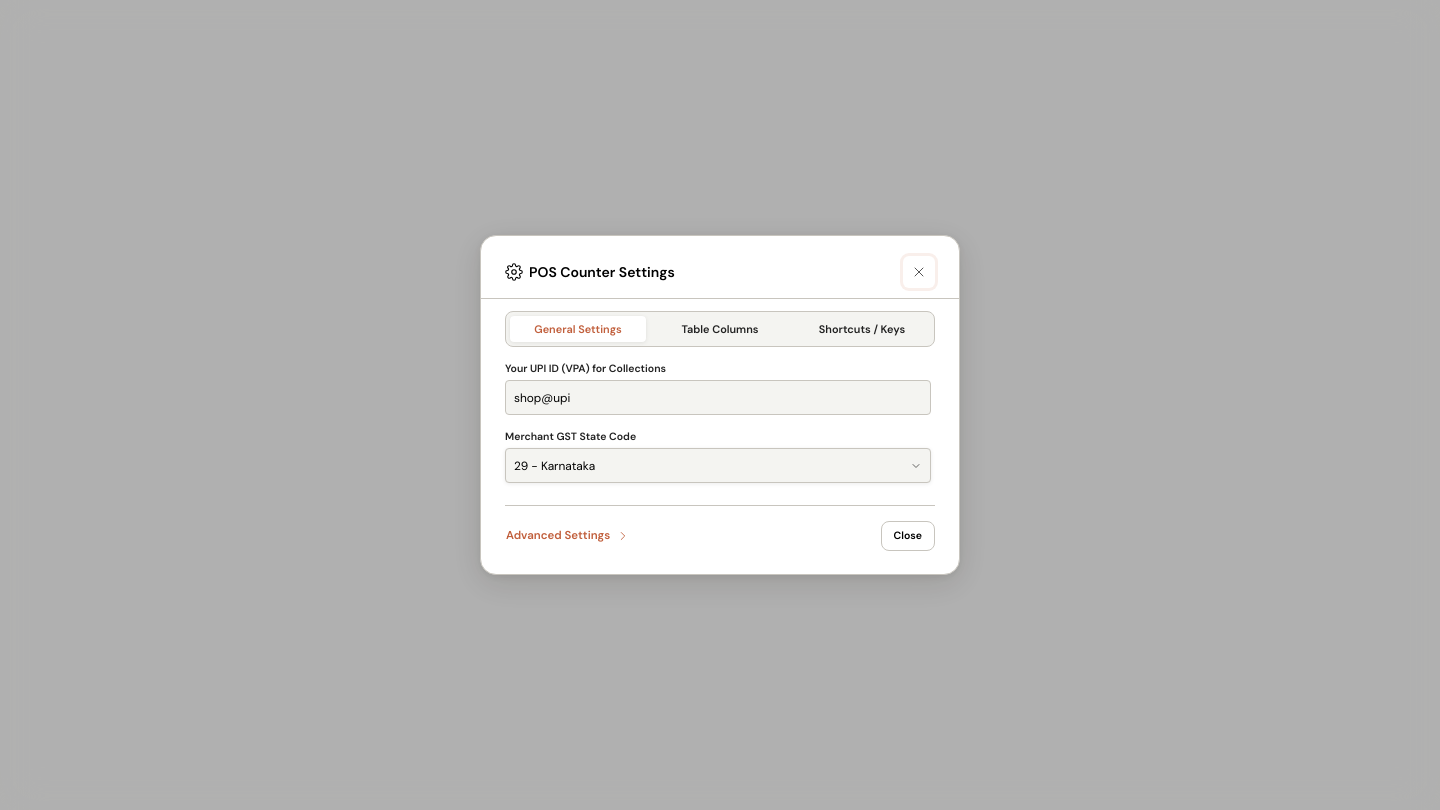
Test: PosCounterSettingsModal › renders column settings when the Columns tab is clicked
The width and height of the screenshot is (1440, 810).
Click the button "Table Columns" at (720, 329), box left=652, top=316, right=788, bottom=342
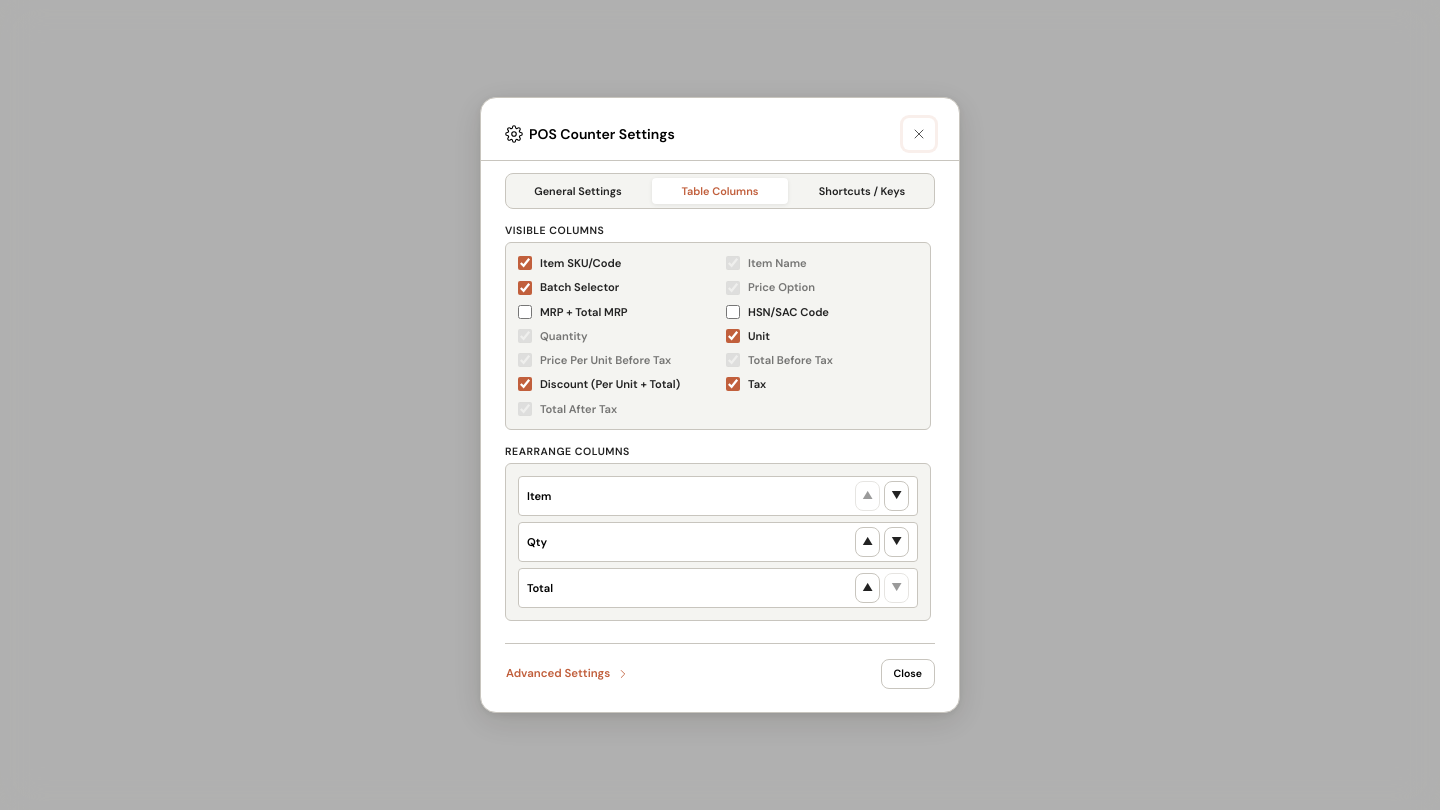
Now the text "Visible Columns" is shown, box left=505, top=224, right=604, bottom=237
Now the text "Rearrange Columns" is shown, box left=505, top=445, right=630, bottom=458
